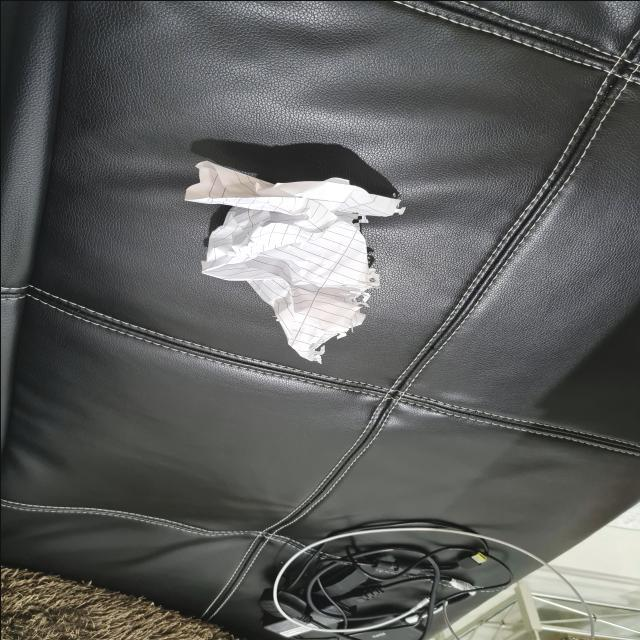Paper: (189, 158, 407, 364)
